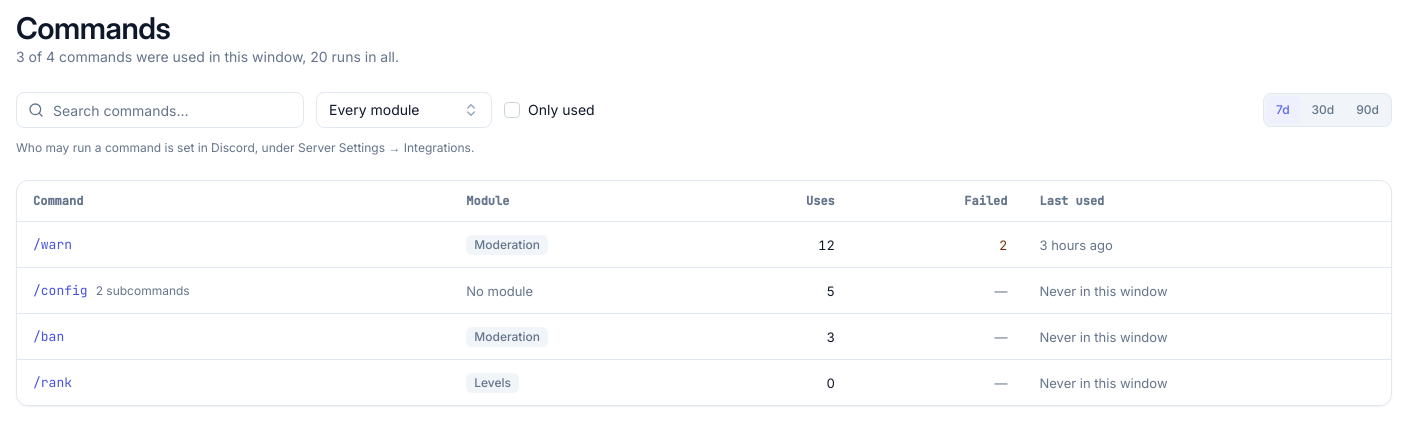
it: CommandsScreen › narrows to a module without asking the API again
Click the dropdown at (404, 110), box [316,92,492,128]
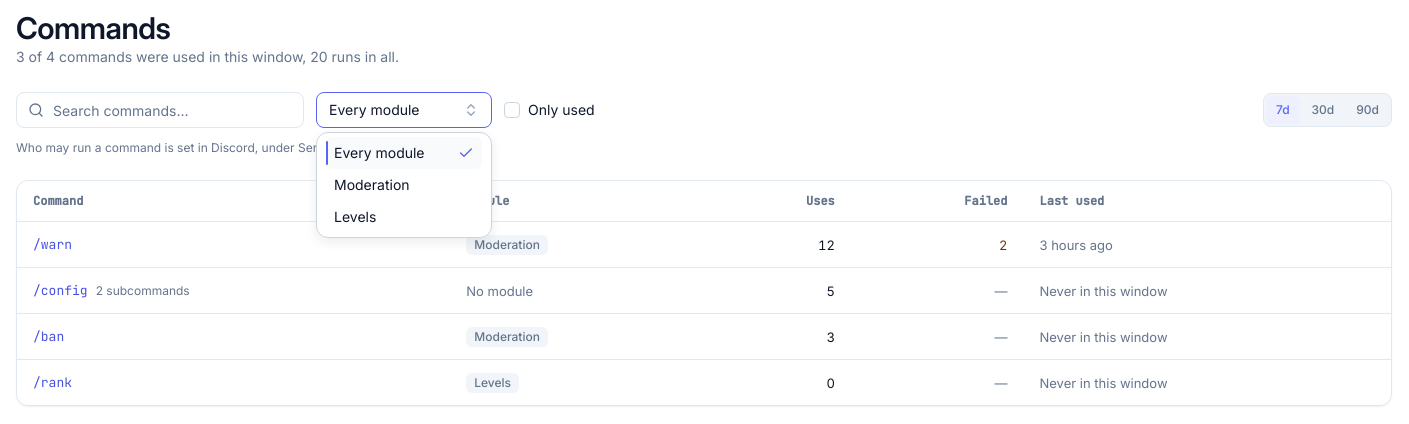
Click the option "Levels" at (355, 216), box [334,208,376,225]
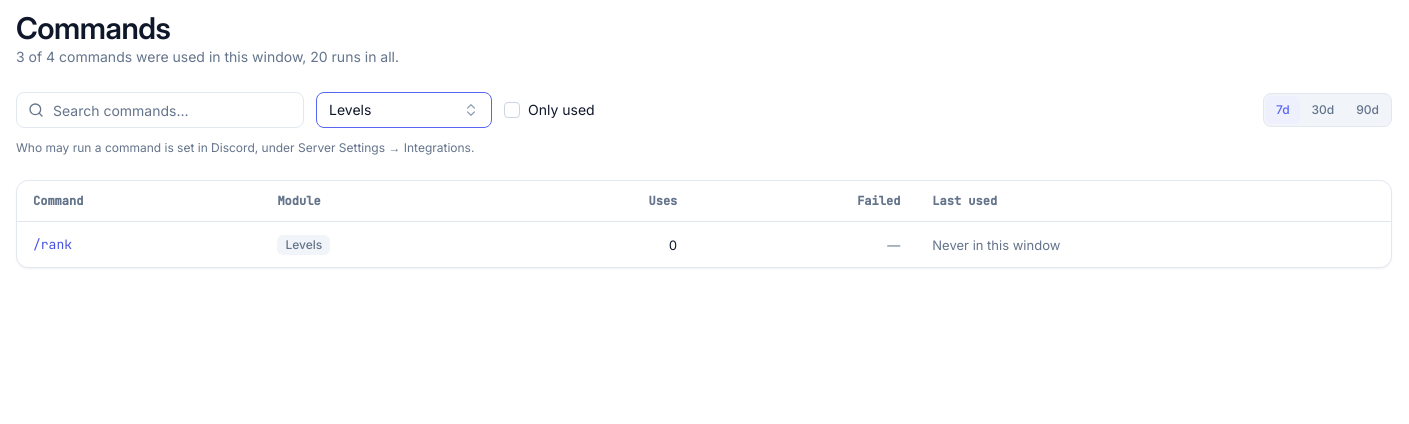
Check: the button "/rank" is shown, box [33,235,72,255]
Check: the button "/warn" is gone
